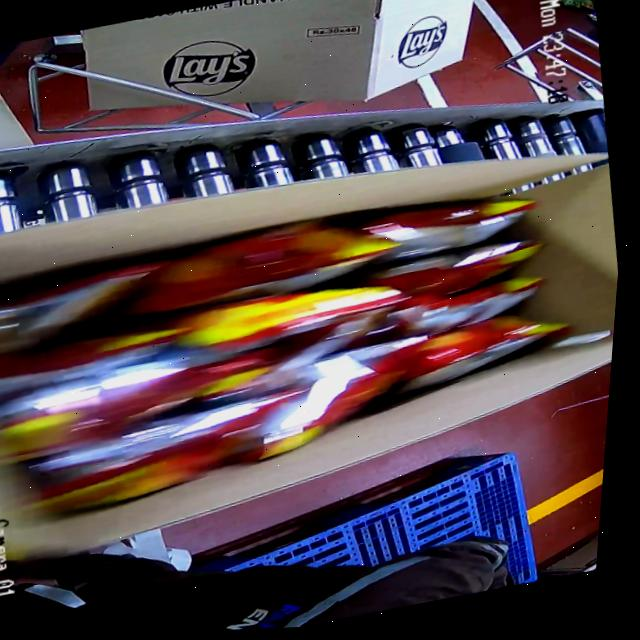MASALA: (0, 164, 597, 519)
